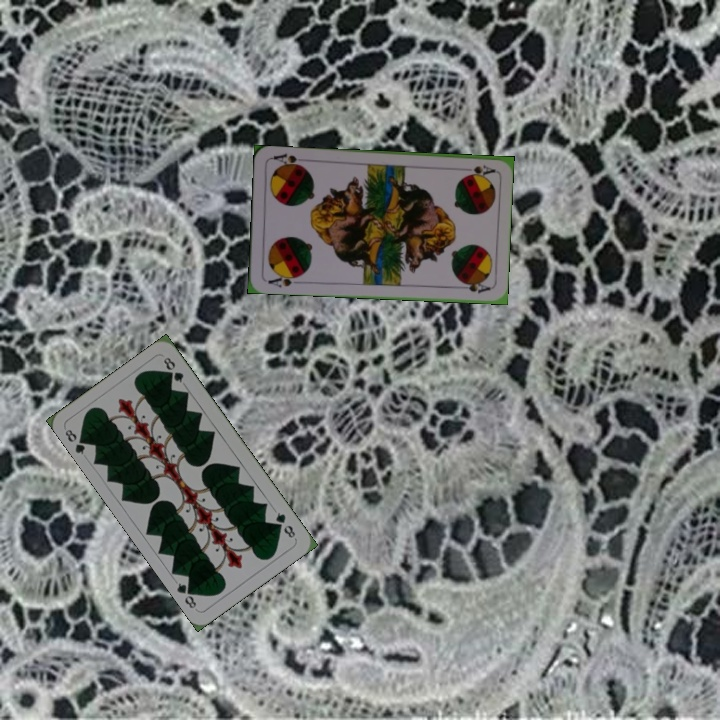G8: (61, 425, 91, 457), (271, 508, 298, 541)
SA: (264, 270, 304, 290), (463, 161, 497, 178)
